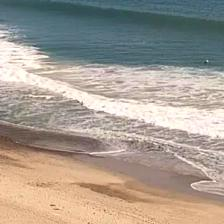surfer: (204, 60, 208, 63)
